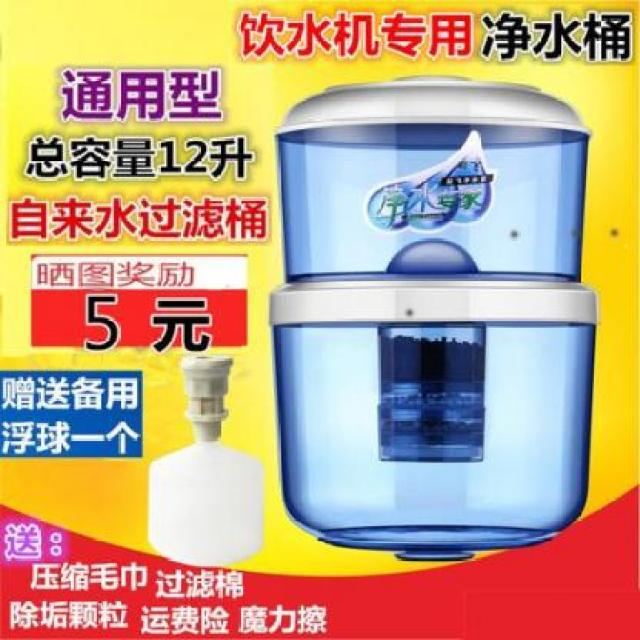coolerbottle: (271, 68, 594, 564)
